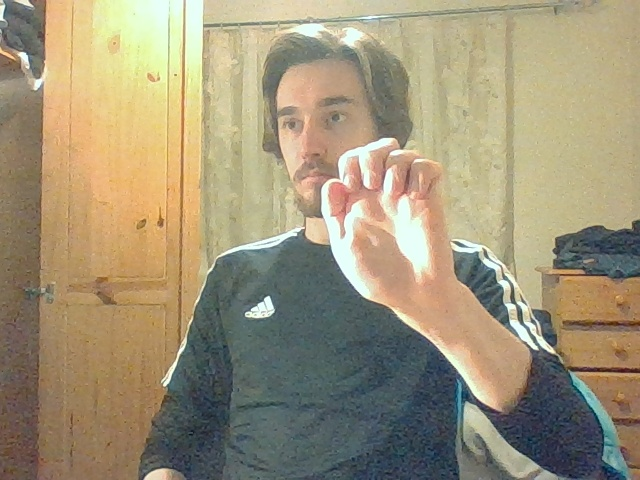your: (319, 138, 454, 293)
